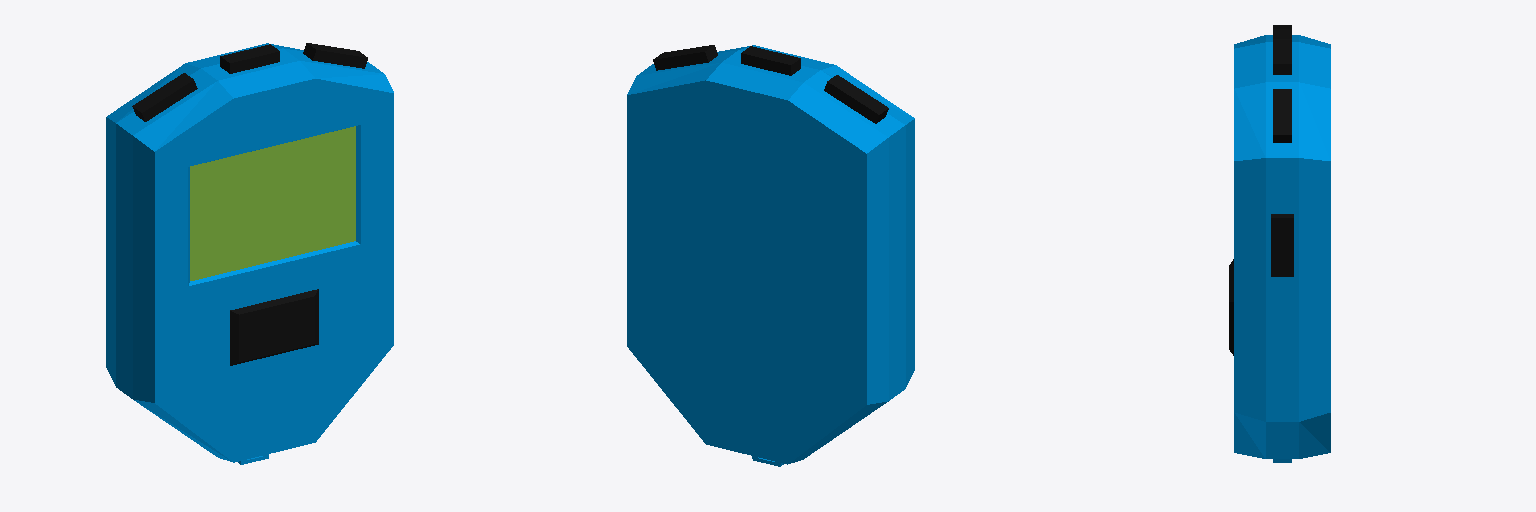
The model's file is Timer_01.obj.
3 renders of one model, left to right at view 1: azimuth 30°, elevation 25°; view 2: azimuth 150°, elevation 25°; view 3: azimuth 270°, elevation 25°, orthographic.
Parts seen in each view (by area): view 1: Cube.025_Cube.024; view 2: Cube.025_Cube.024; view 3: Cube.025_Cube.024.
Boxes of the visible parts, box(x1,y1,x2,y2) form: Cube.025_Cube.024: box(106, 43, 393, 464); Cube.025_Cube.024: box(627, 45, 914, 466); Cube.025_Cube.024: box(1229, 25, 1330, 462).
Size of the model in its own units: 6.87 by 10.18 by 2.31.